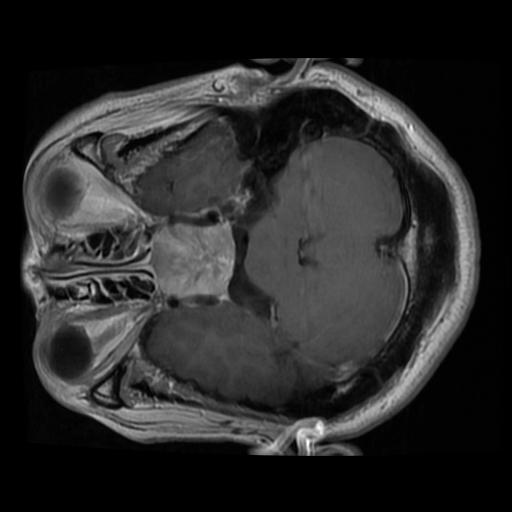pituitary tumour: (150, 222, 232, 298)
